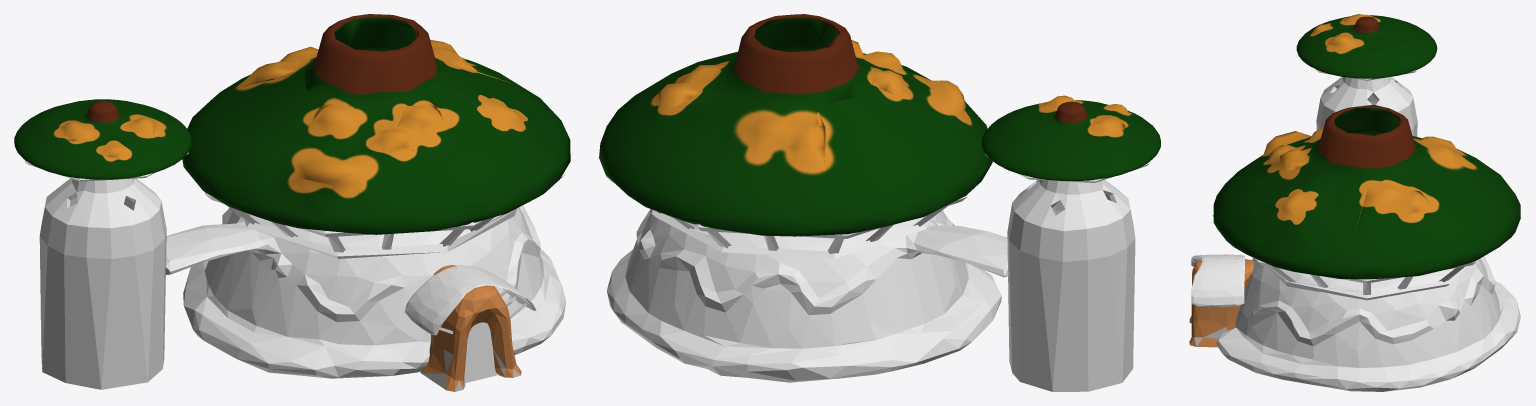
File: House01-5.fbx
3 renders of one model, left to right at view 1: azimuth 30°, elevation 25°; view 2: azimuth 150°, elevation 25°; view 3: azimuth 270°, elevation 25°, orthographic. The views are drawn at different scales.
Visible parts, largest first — view 1: House 1- 5.LOD0; view 2: House 1- 5.LOD0; view 3: House 1- 5.LOD0.
Boxes of the visible parts, x1=… form: House 1- 5.LOD0: x1=14, y1=14, x2=570, y2=391; House 1- 5.LOD0: x1=599, y1=14, x2=1160, y2=391; House 1- 5.LOD0: x1=1189, y1=14, x2=1521, y2=391.
Size of what is drawn, in the model's own units: 1876 by 933 by 1314.
